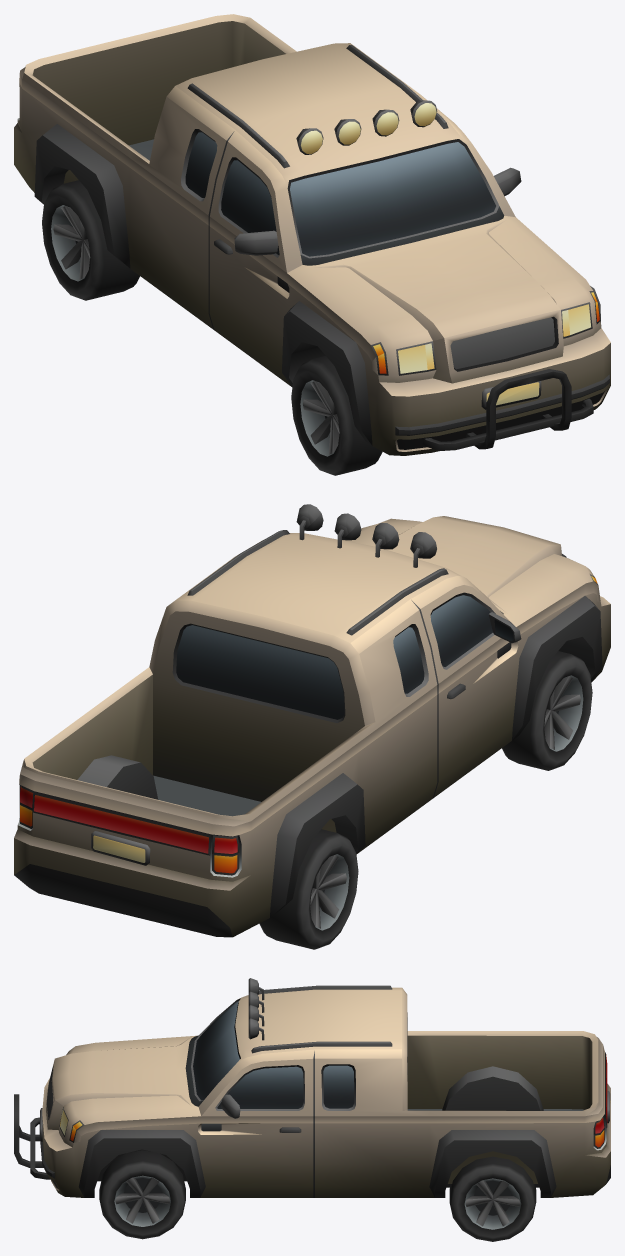
The model's file is Car_18C.fbx.
3 renders of one model, top to bottom at view 1: azimuth 30°, elevation 25°; view 2: azimuth 150°, elevation 25°; view 3: azimuth 270°, elevation 25°, orthographic. The views are drawn at different scales.
Parts seen in each view (by area): view 1: Car_18C, Wheel_18C_R.R, Wheel_18C_F.R; view 2: Car_18C, Wheel_18C_R.R, Wheel_18C_F.R; view 3: Car_18C, Wheel_18C_F.L, Wheel_18C_R.L.
Boxes of the visible parts, <box> form: Car_18C: <box>14,14,610,455</box>; Wheel_18C_R.R: <box>42,180,139,300</box>; Wheel_18C_F.R: <box>291,356,382,475</box>; Car_18C: <box>14,504,610,937</box>; Wheel_18C_R.R: <box>259,829,358,949</box>; Wheel_18C_F.R: <box>502,651,592,770</box>; Car_18C: <box>14,978,610,1197</box>; Wheel_18C_F.L: <box>99,1150,185,1239</box>; Wheel_18C_R.L: <box>449,1156,536,1241</box>.
Size of the model in its own units: 281 by 257 by 701.
